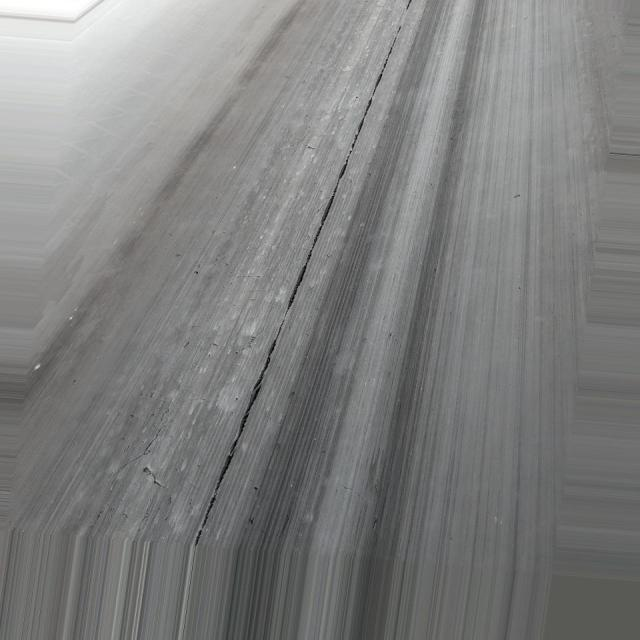Tear: (186, 0, 422, 545)
